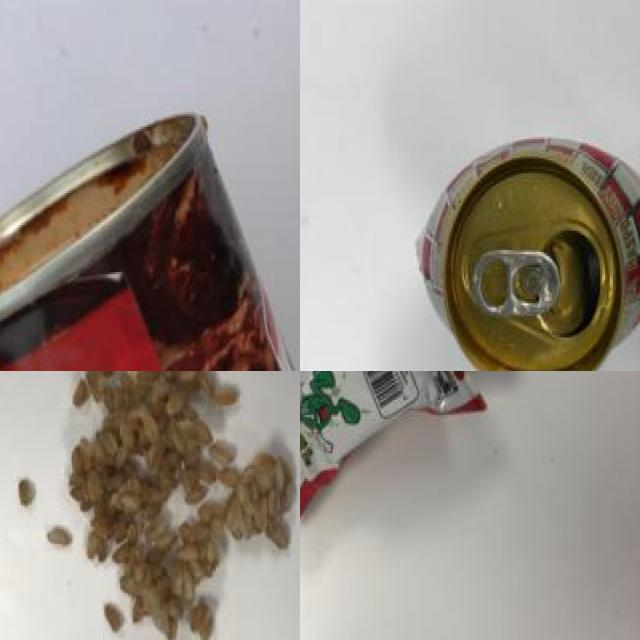compost: (0, 371, 300, 640)
plastic: (0, 76, 300, 371), (399, 110, 640, 371)
trash: (300, 371, 496, 539)
